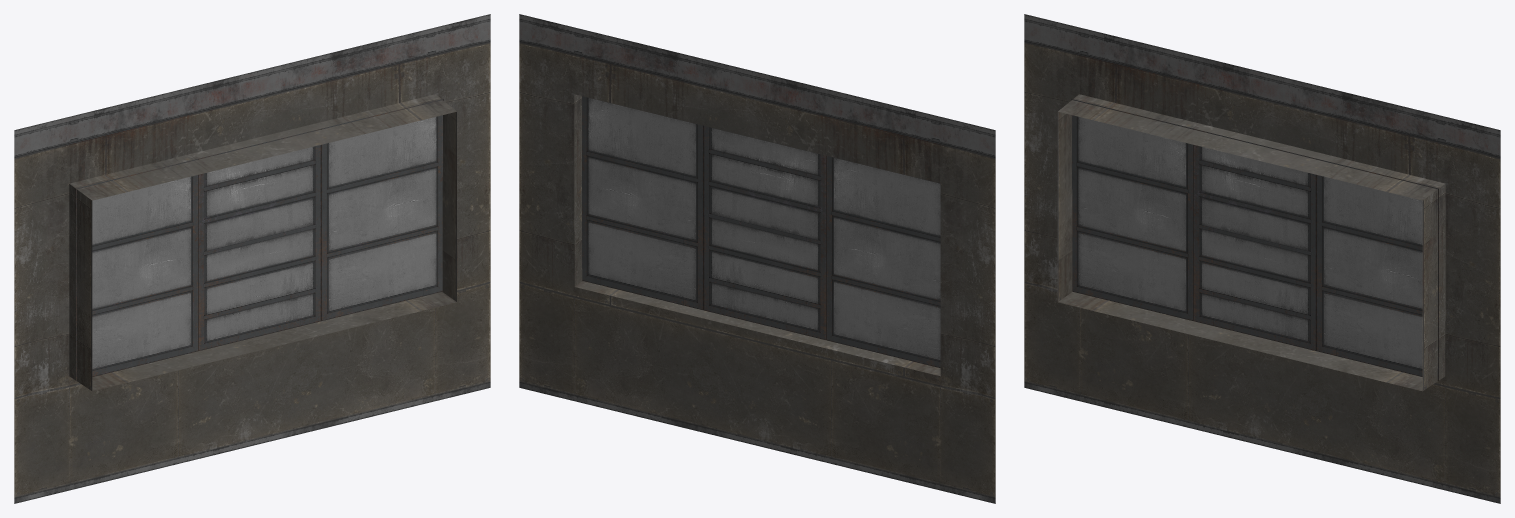
File: ARC0910282.fbx
3 renders of one model, left to right at view 1: azimuth 30°, elevation 25°; view 2: azimuth 150°, elevation 25°; view 3: azimuth 330°, elevation 25°, orthographic.
Visible parts, largest first — view 1: smARC0910282; view 2: smARC0910282; view 3: smARC0910282.
Part boxes in pixels (x1,y1,x2,y2): smARC0910282: (14, 14, 490, 503); smARC0910282: (519, 14, 995, 503); smARC0910282: (1024, 14, 1500, 503).
Bounding box in the file's own units: 400 × 300 × 32.4.
Materials: 1 (1 with a texture image).
